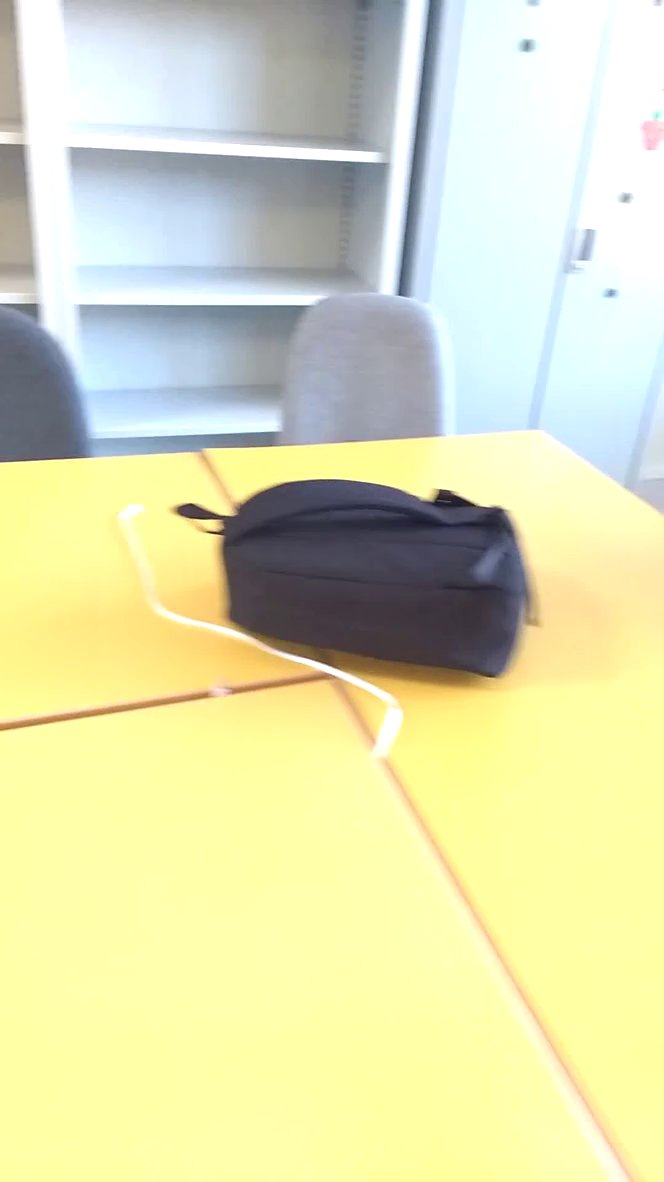bag: (172, 469, 550, 686)
chair: (271, 279, 474, 453)
